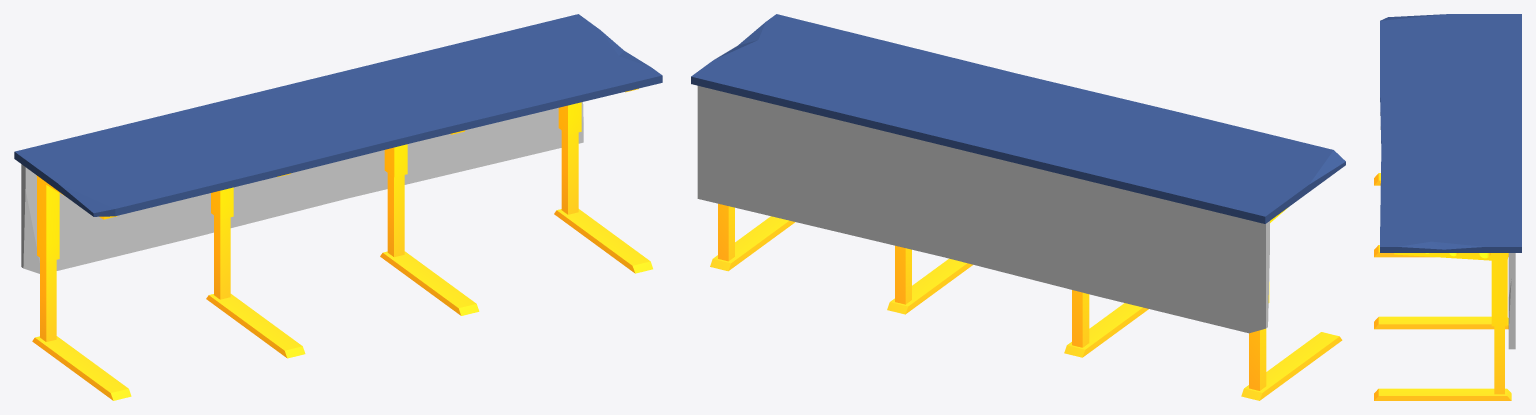
Rendered from SM_Prop_StudentDesk.fbx.
3 renders of one model, left to right at view 1: azimuth 30°, elevation 25°; view 2: azimuth 150°, elevation 25°; view 3: azimuth 270°, elevation 25°, orthographic. The views are drawn at different scales.
Parts seen in each view (by area): view 1: SM_Prop_Desk_Standing_01.002; view 2: SM_Prop_Desk_Standing_01.002; view 3: SM_Prop_Desk_Standing_01.002.
Boxes of the visible parts, x1=… form: SM_Prop_Desk_Standing_01.002: x1=14, y1=14, x2=662, y2=400; SM_Prop_Desk_Standing_01.002: x1=691, y1=14, x2=1345, y2=400; SM_Prop_Desk_Standing_01.002: x1=1374, y1=14, x2=1521, y2=400.
Bounding box in the file's own units: 322 × 103 × 86.28.
1 material, 1 textured.
